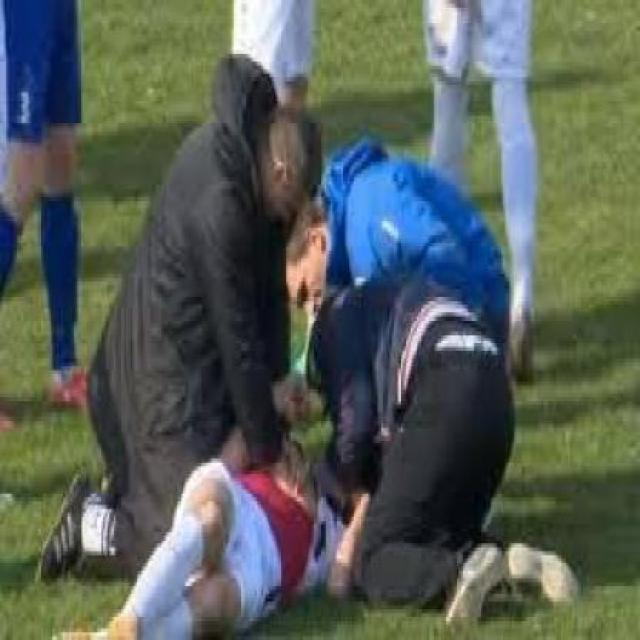fall: (12, 351, 360, 632)
